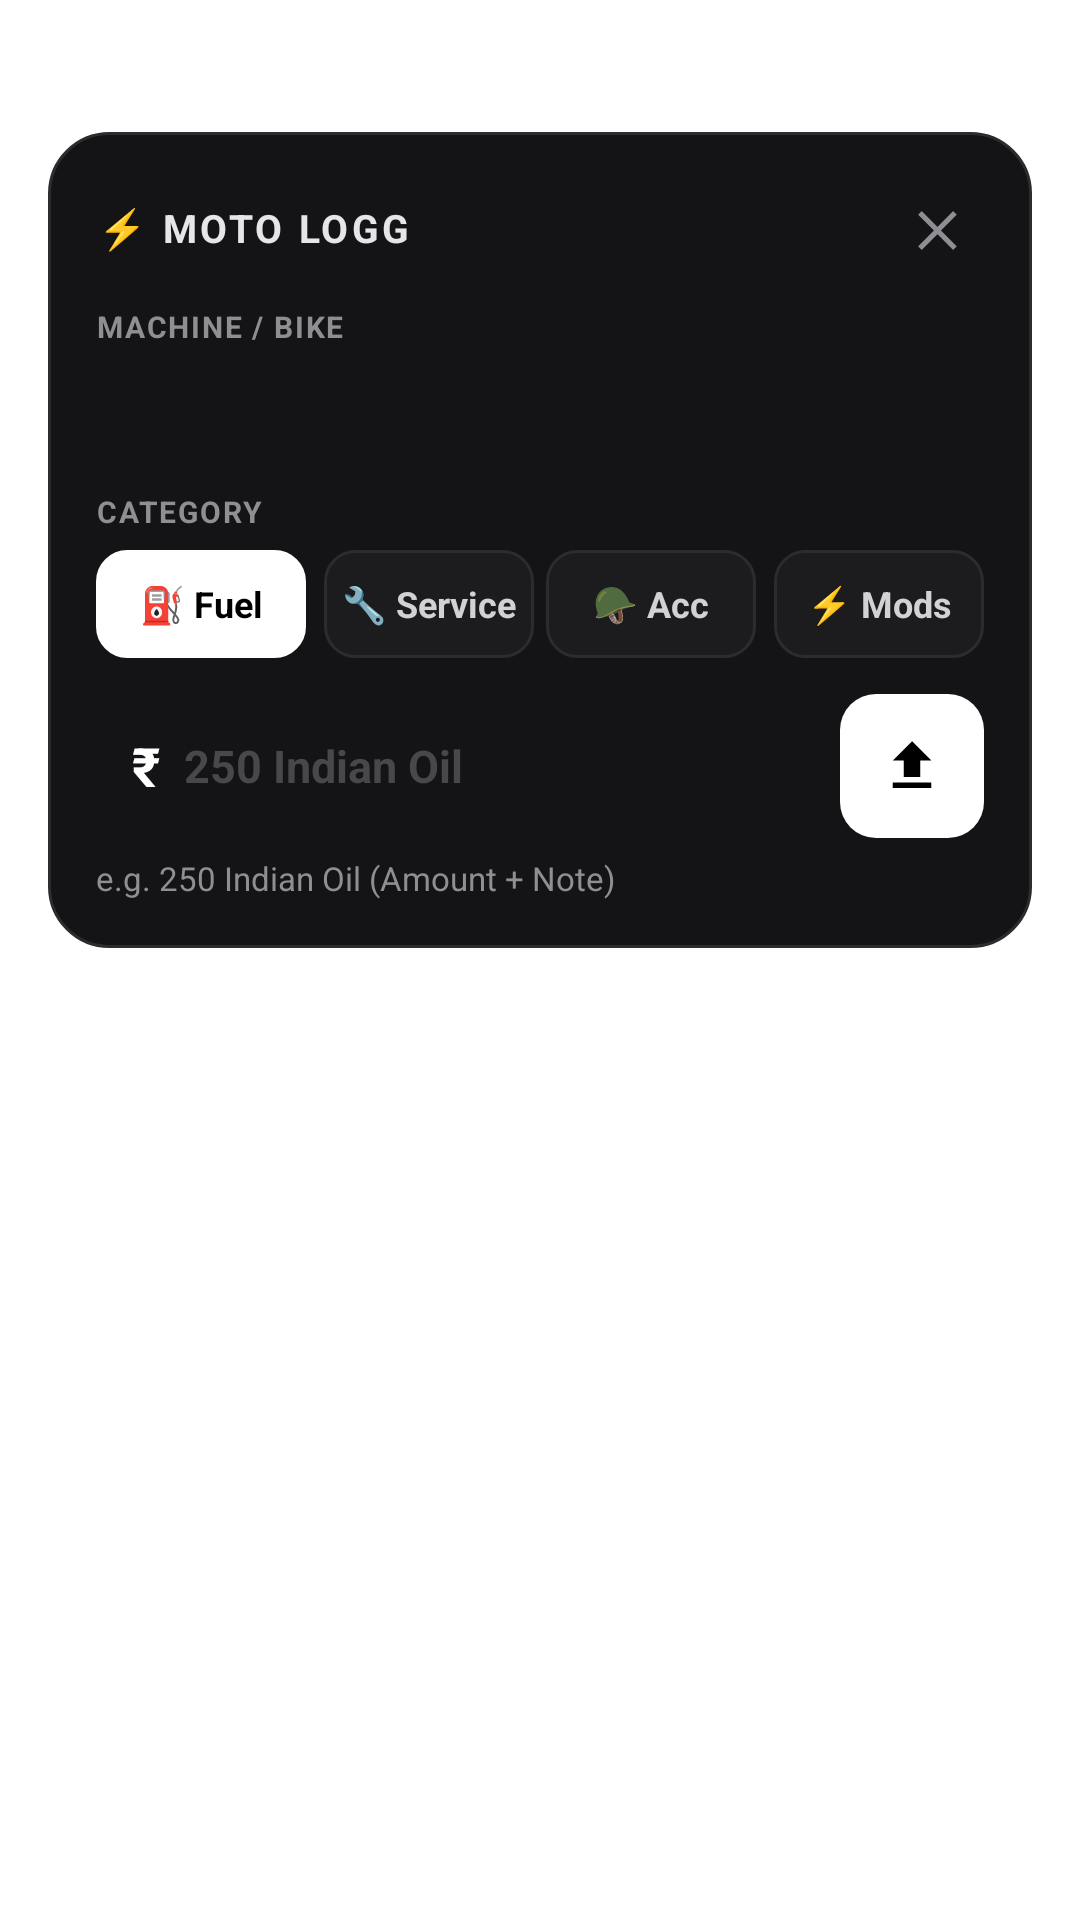

Screen size 1080×1920. Icon name, then its box in pixels as (x1, y1, x2, y2):
Upload Expense: (892, 741, 932, 788)
